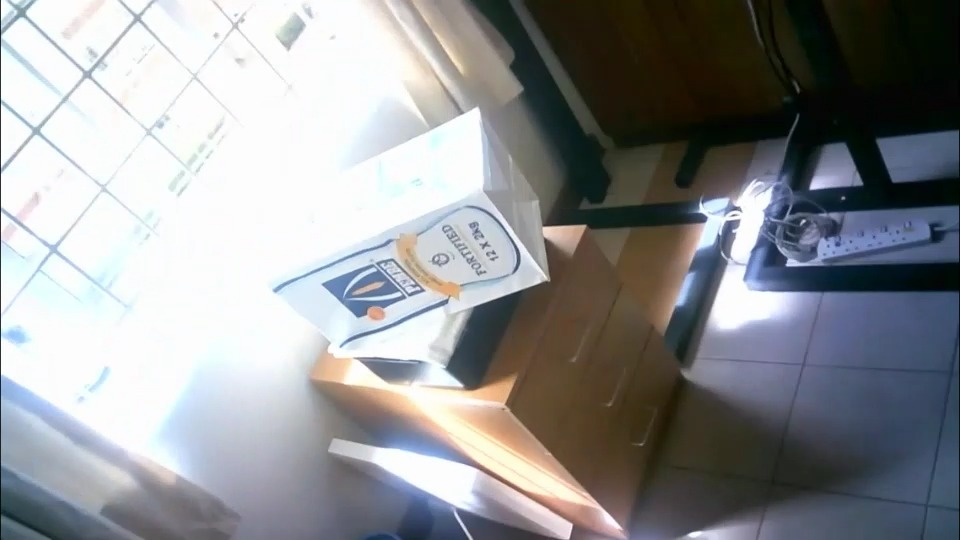wheat_flour_blue_label: (271, 109, 546, 344)
